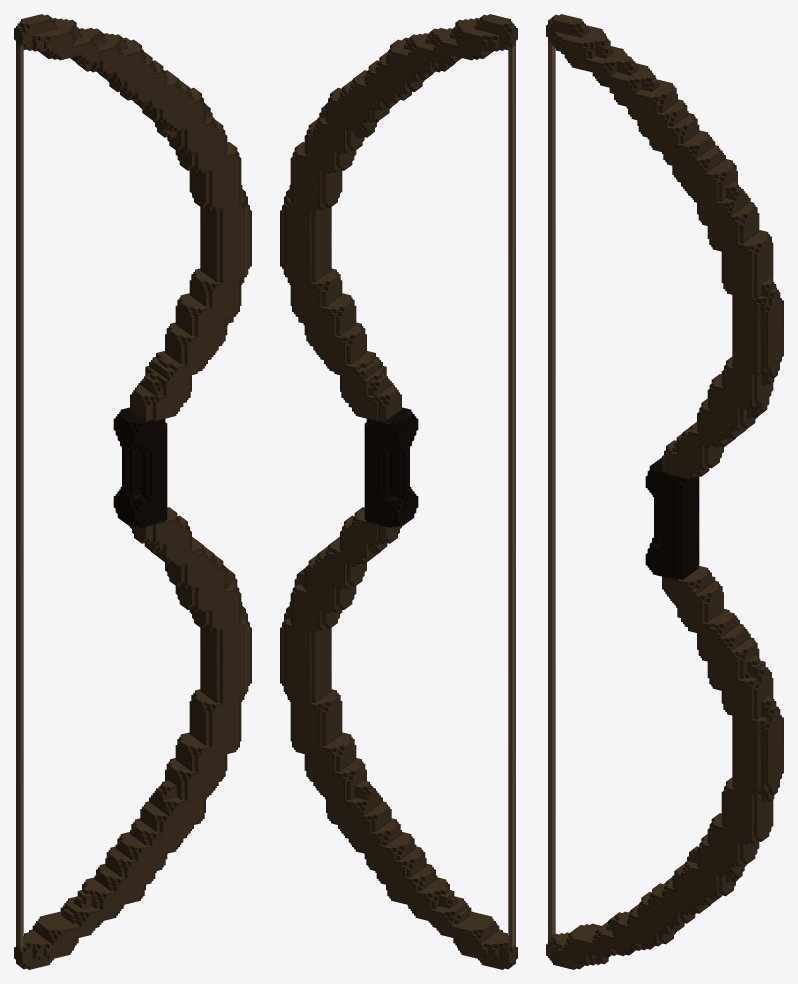
The model's file is Bow_ShortRecurveLarge.obj.
The picture shows the model from 3 angles, left to right: view 1: azimuth 30°, elevation 25°; view 2: azimuth 150°, elevation 25°; view 3: azimuth 330°, elevation 25°; orthographic projection.
Parts seen in each view (by area): view 1: Bow_ShortRecurveLarge; view 2: Bow_ShortRecurveLarge; view 3: Bow_ShortRecurveLarge.
Part boxes in pixels (<box>): Bow_ShortRecurveLarge: <box>14,14,251,969</box>; Bow_ShortRecurveLarge: <box>280,14,517,969</box>; Bow_ShortRecurveLarge: <box>546,14,783,969</box>.
Bounding box in the file's own units: 64 × 256 × 10.
1 material, 1 textured.
